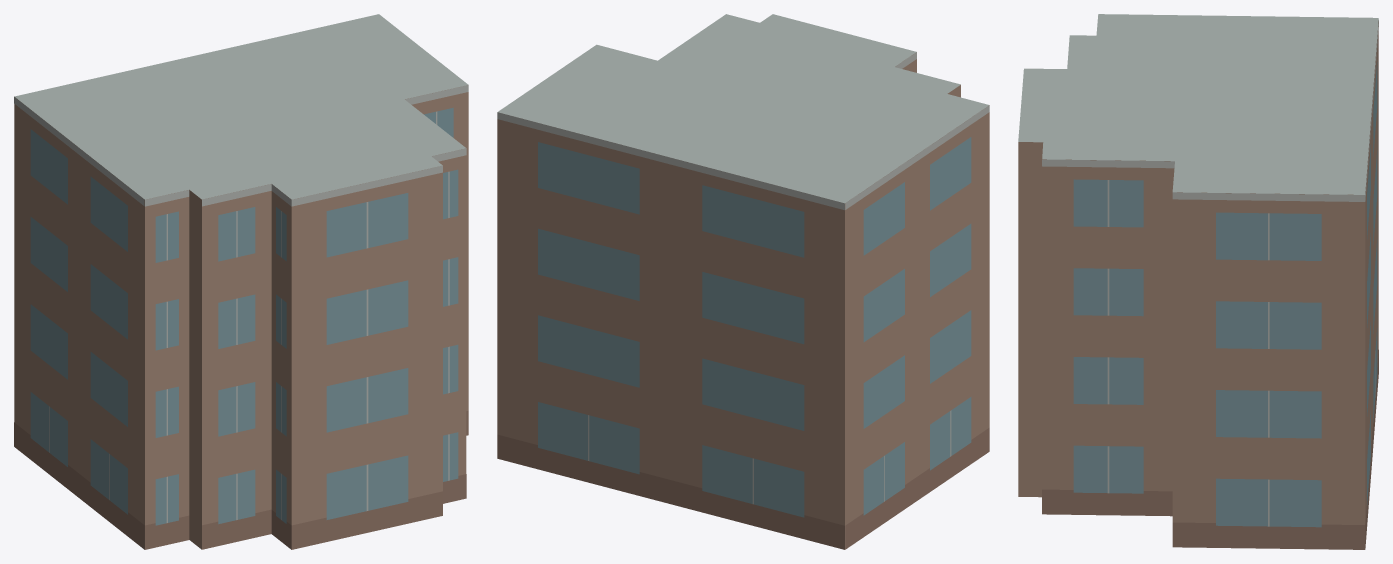
Rendered from residential-1c0eeeb0-44d3-4bca-ba83-9d8a36e3d130.glb.
The picture shows the model from 3 angles, left to right: view 1: azimuth 30°, elevation 25°; view 2: azimuth 150°, elevation 25°; view 3: azimuth 270°, elevation 25°; orthographic projection. The views are drawn at different scales.
Visible parts, largest first — view 1: residential-1c0eeeb0-44d3-4bca-ba83-9d8a36e3d130.tmp; view 2: residential-1c0eeeb0-44d3-4bca-ba83-9d8a36e3d130.tmp; view 3: residential-1c0eeeb0-44d3-4bca-ba83-9d8a36e3d130.tmp.
Boxes of the visible parts, box(x1,y1,x2,y2) form: residential-1c0eeeb0-44d3-4bca-ba83-9d8a36e3d130.tmp: box(14, 14, 468, 549); residential-1c0eeeb0-44d3-4bca-ba83-9d8a36e3d130.tmp: box(497, 14, 989, 549); residential-1c0eeeb0-44d3-4bca-ba83-9d8a36e3d130.tmp: box(1018, 14, 1378, 549).
Size of the model in its own units: 13.35 by 12.2 by 11.24.
